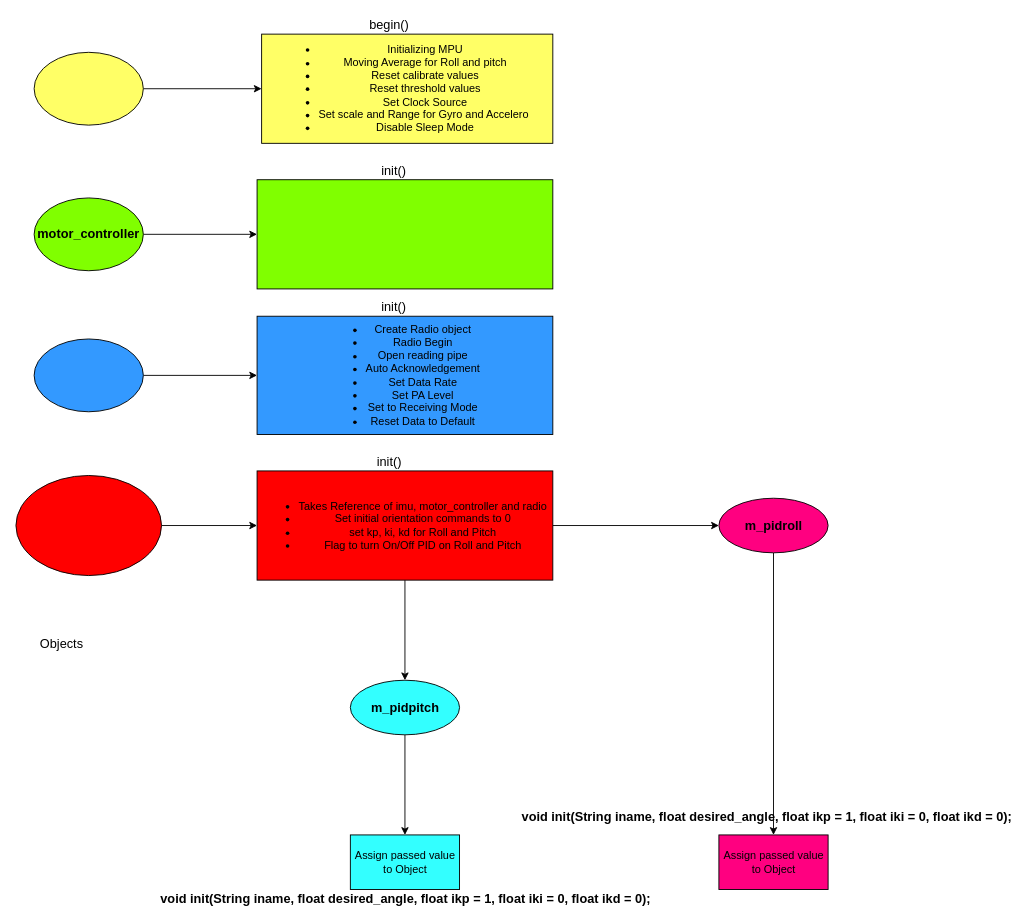
The diagram is 1033 pixels wide and 923 high, and some of its shapes have lost their labels. Here are the shapes that lost their labels. From the top down, the centre of each, then its label:
At [88,88]: "imu".
At [404,234]: "Attatch ESC Pins ESC arm command - writeMicroseconds".
At [88,375]: "rc".
At [88,525]: "flight_controller(&imu, &motor_controller, &rc)".
